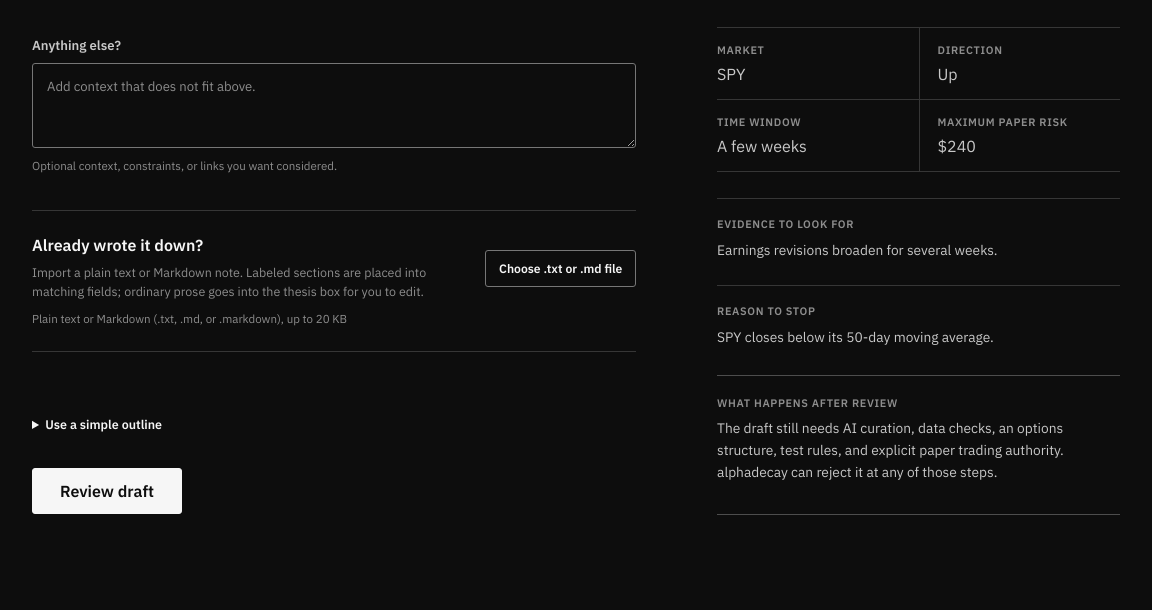
Test: ConnectedStrategyIntake › turns owner authentication failures into one useful message
(page scrolled)
Click the button "Review draft". click: (107, 491)
box: [32,468,182,514]
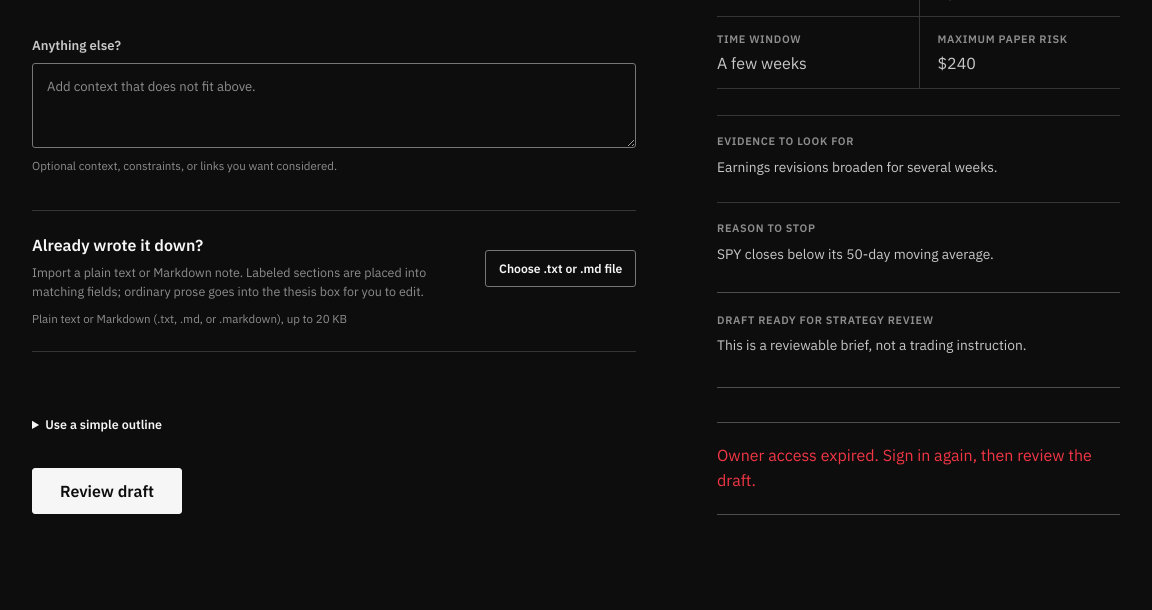
Check: the message reads "Owner access expired. Sign in again, then review the draft.", box [717,445,1092,490]
